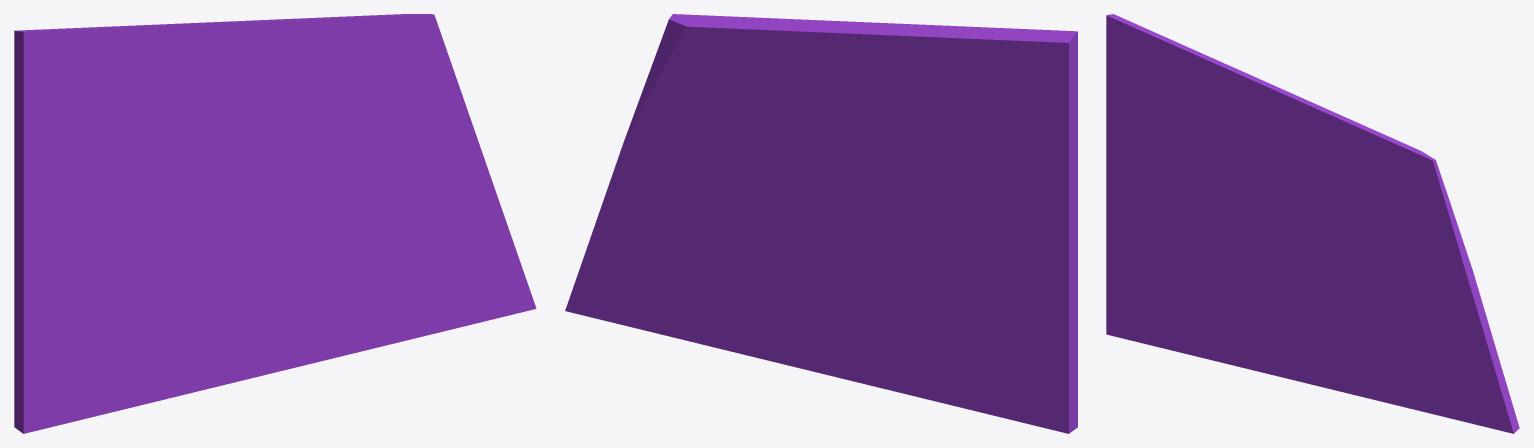
The model's file is Window_41_4_chunks.fbx.
The picture shows the model from 3 angles, left to right: view 1: azimuth 30°, elevation 25°; view 2: azimuth 150°, elevation 25°; view 3: azimuth 330°, elevation 25°; orthographic projection. The views are drawn at different scales.
Visible parts, largest first — view 1: Window_41_4_0, Window_41_4_4, Window_41_4_2, Window_41_4_1, Window_41_4_3, Window_41_4_6, Window_41_4_9, Window_41_4_5, Window_41_4_7, Window_41_4_8; view 2: Window_41_4_0, Window_41_4_2, Window_41_4_4, Window_41_4_6, Window_41_4_5, Window_41_4_3, Window_41_4_9, Window_41_4_1, Window_41_4_7; view 3: Window_41_4_0, Window_41_4_4, Window_41_4_2, Window_41_4_1, Window_41_4_3, Window_41_4_6, Window_41_4_9, Window_41_4_5, Window_41_4_7, Window_41_4_8.
Part boxes in pixels (x1,y1,x2,y2): Window_41_4_0: (310, 93, 536, 358); Window_41_4_4: (14, 24, 202, 225); Window_41_4_2: (14, 205, 144, 433); Window_41_4_1: (162, 170, 331, 399); Window_41_4_3: (117, 187, 253, 410); Window_41_4_6: (156, 17, 340, 152); Window_41_4_9: (331, 14, 461, 112); Window_41_4_5: (167, 80, 282, 225); Window_41_4_7: (267, 94, 423, 170); Window_41_4_8: (317, 70, 366, 107); Window_41_4_0: (565, 91, 815, 367); Window_41_4_2: (924, 194, 1077, 433); Window_41_4_4: (896, 25, 1077, 221); Window_41_4_6: (756, 18, 946, 149); Window_41_4_5: (804, 69, 936, 253); Window_41_4_3: (834, 214, 949, 404); Window_41_4_9: (642, 14, 766, 111); Window_41_4_1: (798, 218, 908, 394); Window_41_4_7: (683, 88, 824, 173); Window_41_4_0: (1334, 224, 1519, 433); Window_41_4_4: (1106, 14, 1248, 199); Window_41_4_2: (1106, 169, 1202, 352); Window_41_4_1: (1217, 226, 1350, 393); Window_41_4_3: (1181, 194, 1289, 361); Window_41_4_6: (1212, 62, 1363, 205); Window_41_4_9: (1357, 125, 1457, 234); Window_41_4_5: (1220, 123, 1312, 257); Window_41_4_7: (1300, 189, 1423, 236); Window_41_4_8: (1340, 169, 1378, 197).
Bounding box in the file's own units: 877 × 657 × 27.2.
